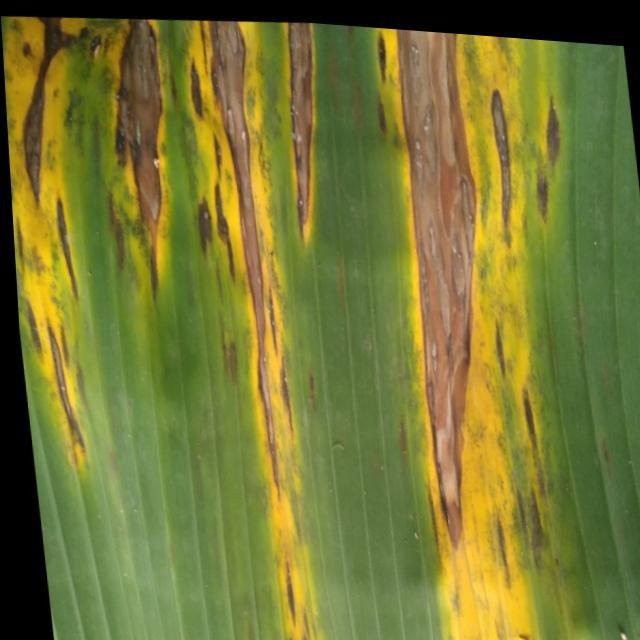Early_rust: (0, 0, 581, 640)
